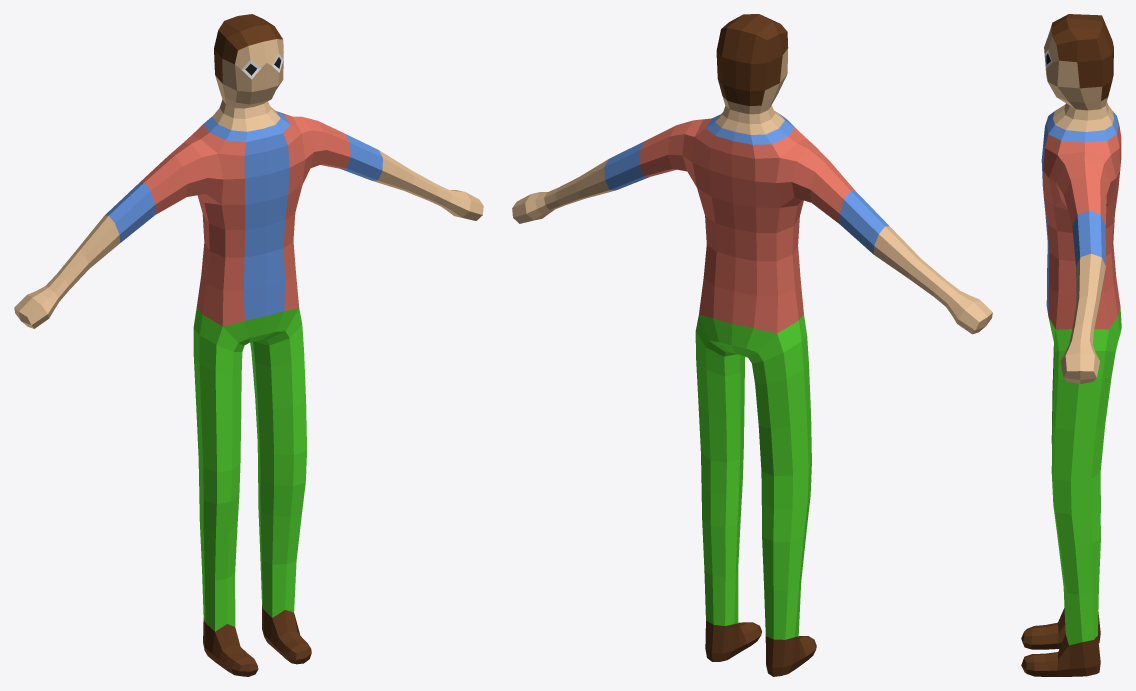
Rendered from Person.fbx.
The picture shows the model from 3 angles, left to right: view 1: azimuth 30°, elevation 25°; view 2: azimuth 150°, elevation 25°; view 3: azimuth 270°, elevation 25°; orthographic projection. The views are drawn at different scales.
Parts seen in each view (by area): view 1: Person; view 2: Person; view 3: Person.
Boxes of the visible parts, box(x1,y1,x2,y2) form: Person: box(14, 14, 483, 676); Person: box(512, 14, 992, 676); Person: box(1021, 14, 1121, 676).
Size of the model in its own units: 154 by 202 by 28.65.
